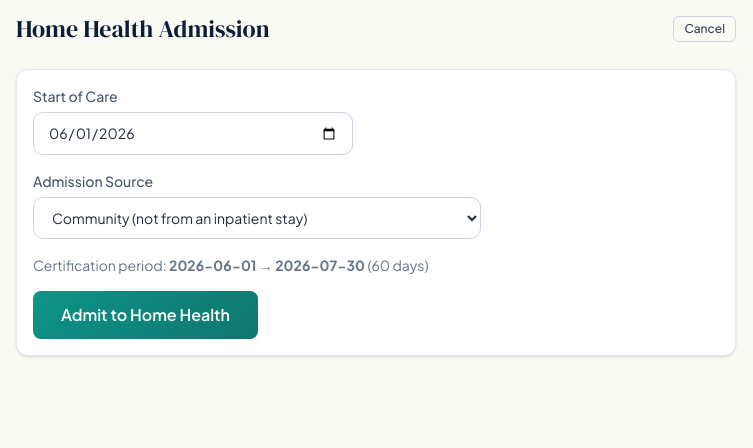
Test: HomeHealthEpisodeWizard › surfaces a backend error
The width and height of the screenshot is (753, 448).
Click the button "Admit to Home Health": (146, 315) [33, 291, 258, 339]
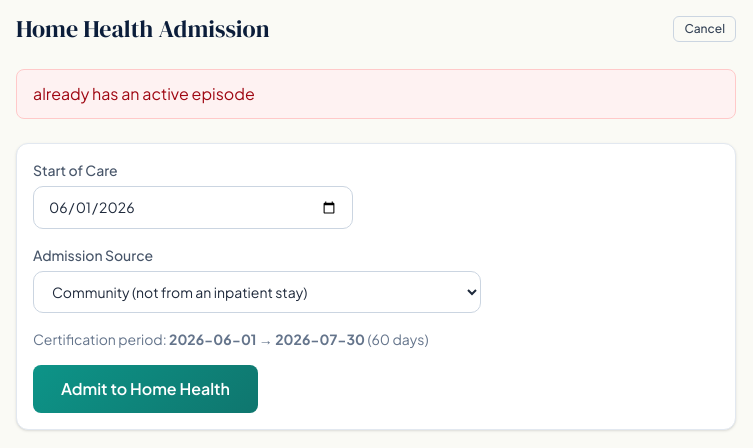
Result: the message reads "already has an active episode" at [33, 83, 255, 104]
